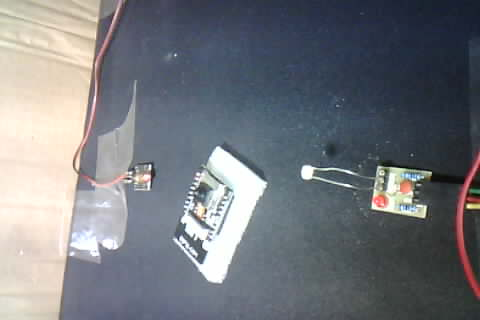esp32: (172, 141, 253, 277)
